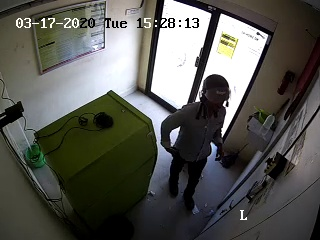helmet: (200, 73, 233, 120)
